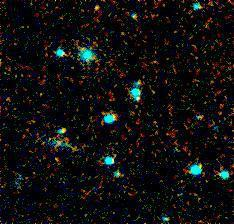star: (80, 0, 110, 21)
